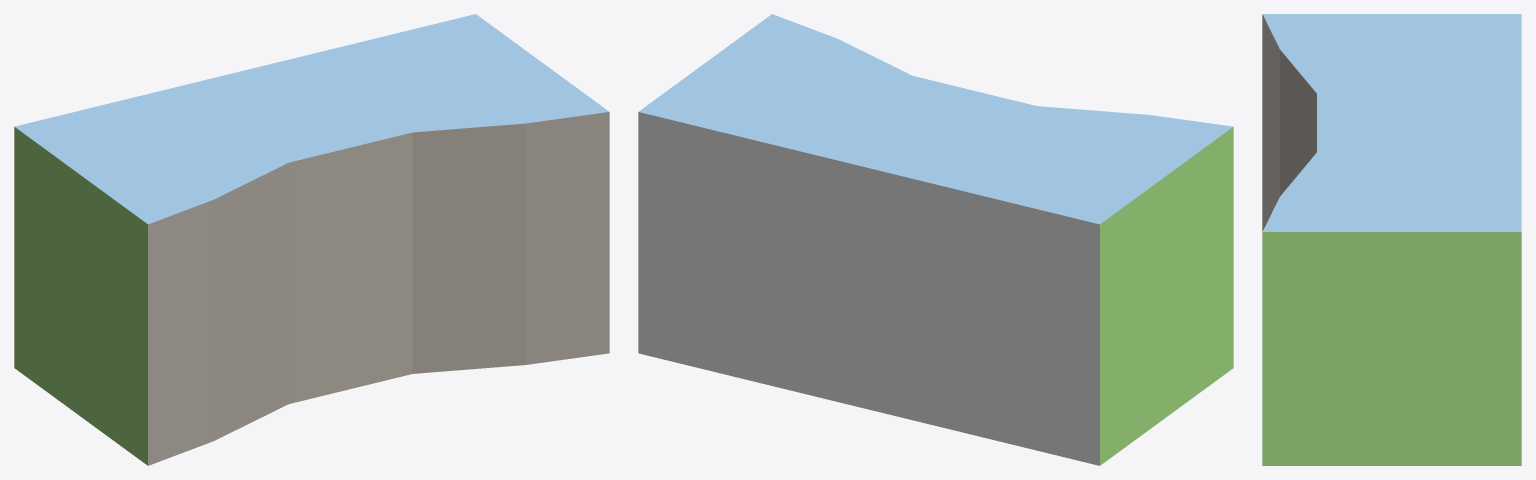
The model's file is Wall_Straight_Deformed_Concave_2x2_Mid.glb.
3 views of the same model, side by side, from view 1: azimuth 30°, elevation 25°; view 2: azimuth 150°, elevation 25°; view 3: azimuth 270°, elevation 25° (orthographic). The views are drawn at different scales.
Parts seen in each view (by area): view 1: Wall_Straight_Deformed_Concave_2x2_Mid; view 2: Wall_Straight_Deformed_Concave_2x2_Mid; view 3: Wall_Straight_Deformed_Concave_2x2_Mid.
Part boxes in pixels (<box>): Wall_Straight_Deformed_Concave_2x2_Mid: <box>14,14,609,465</box>; Wall_Straight_Deformed_Concave_2x2_Mid: <box>638,14,1233,465</box>; Wall_Straight_Deformed_Concave_2x2_Mid: <box>1262,14,1521,465</box>.
Size of the model in its own units: 200 by 100 by 100.
